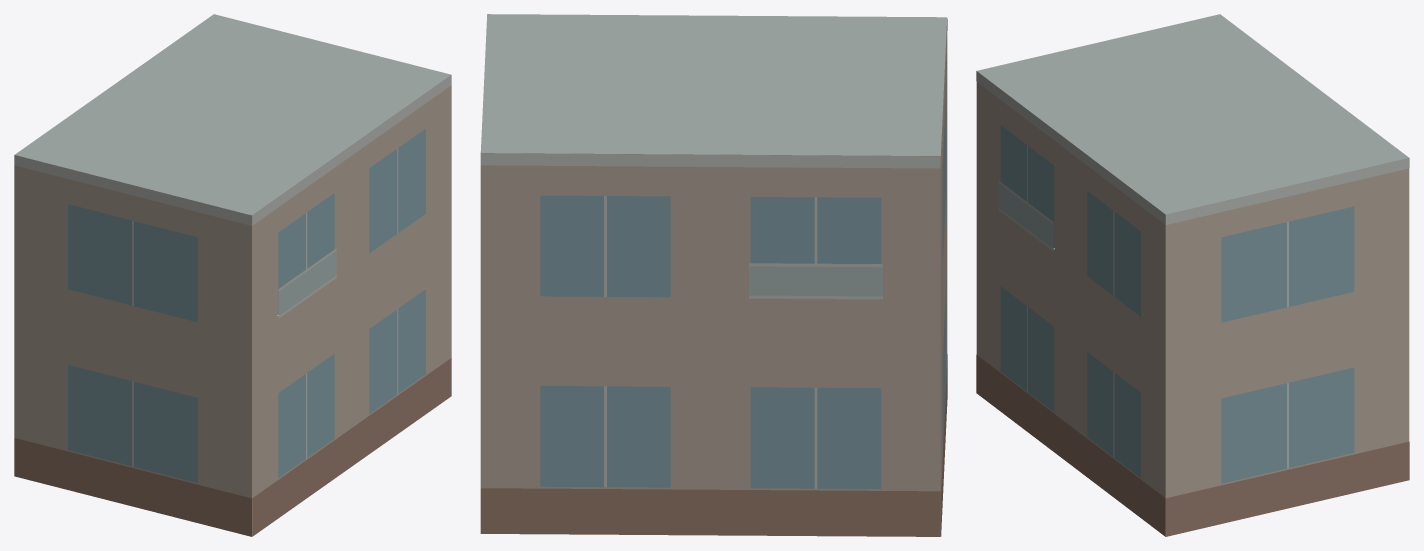
File: survey-upis-32491532.glb
3 renders of one model, left to right at view 1: azimuth 30°, elevation 25°; view 2: azimuth 150°, elevation 25°; view 3: azimuth 270°, elevation 25°, orthographic. The views are drawn at different scales.
Visible parts, largest first — view 1: survey-upis-32491532.tmp; view 2: survey-upis-32491532.tmp; view 3: survey-upis-32491532.tmp.
Boxes of the visible parts, box(x1,y1,x2,y2) form: survey-upis-32491532.tmp: box(14, 14, 451, 536); survey-upis-32491532.tmp: box(480, 14, 947, 536); survey-upis-32491532.tmp: box(976, 14, 1409, 536).
Size of the model in its own units: 10.03 by 7.5 by 9.14.
